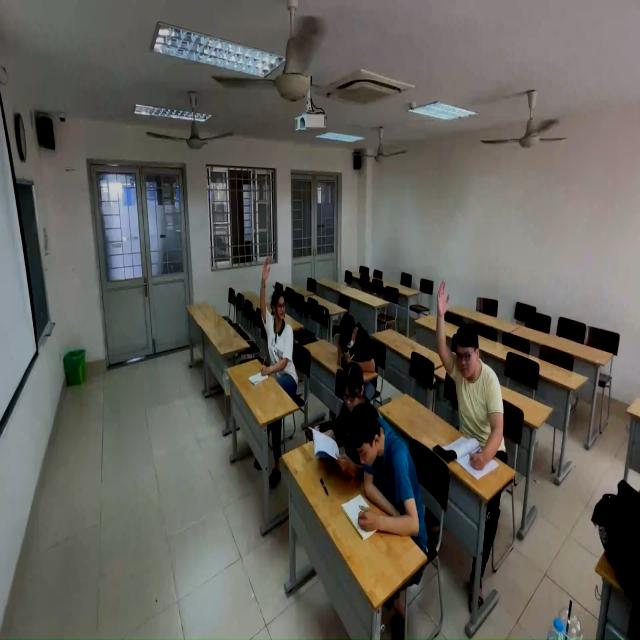raise_hand: (436, 281, 509, 473), (256, 254, 299, 398)
read: (341, 396, 428, 546), (307, 359, 372, 483), (335, 305, 378, 379)
